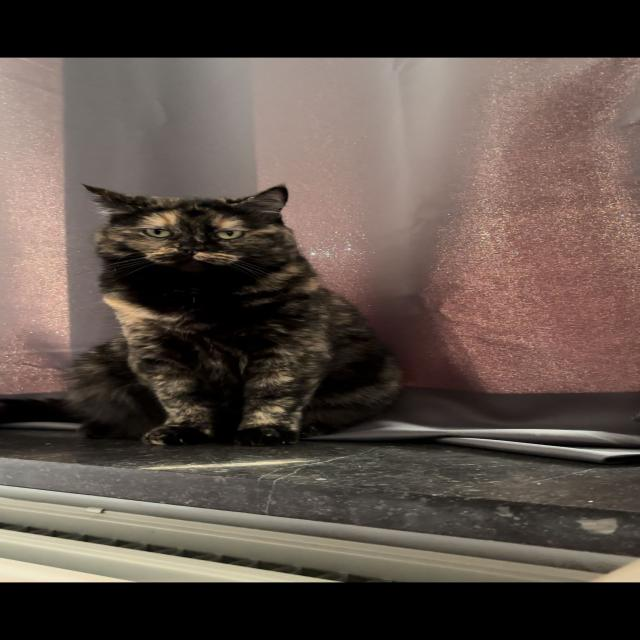authorized: (58, 181, 405, 447)
